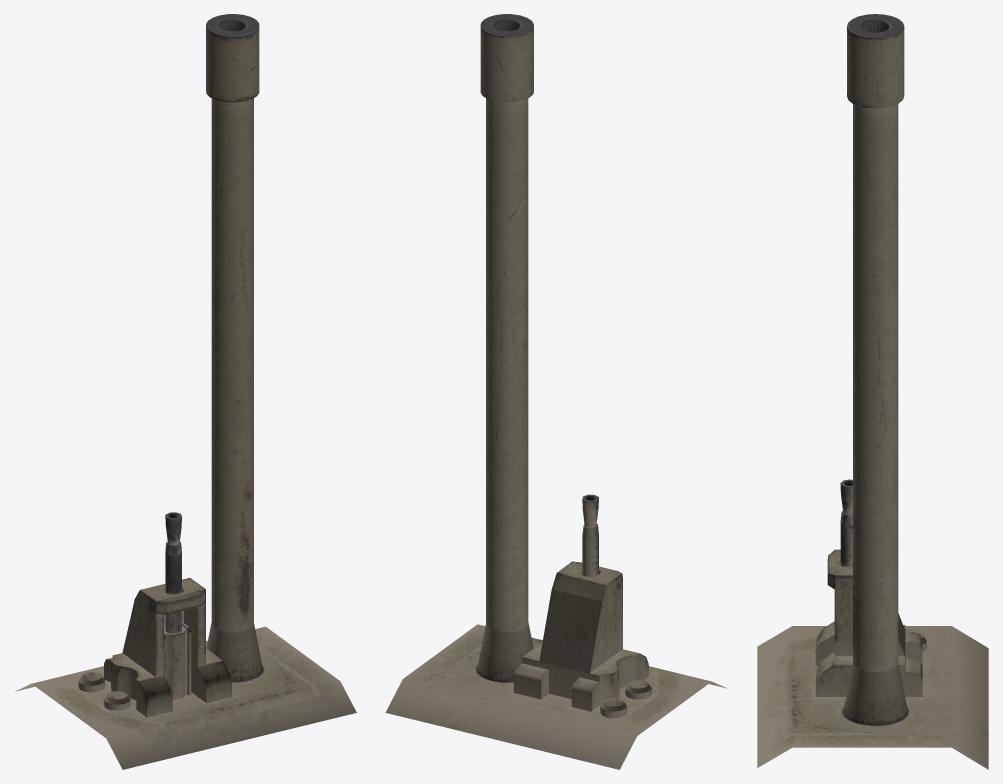
File: Gun_01.glb
3 views of the same model, side by side, from view 1: azimuth 30°, elevation 25°; view 2: azimuth 150°, elevation 25°; view 3: azimuth 270°, elevation 25° (orthographic). The views are drawn at different scales.
Parts seen in each view (by area): view 1: set_0_group_0; view 2: set_0_group_0; view 3: set_0_group_0.
Boxes of the visible parts, x1=… form: set_0_group_0: x1=15, y1=14, x2=356, y2=769; set_0_group_0: x1=385, y1=14, x2=727, y2=769; set_0_group_0: x1=757, y1=14, x2=988, y2=769.
Bounding box in the file's own units: 0.5891 × 1.6 × 0.4736.
1 material, 1 textured.
